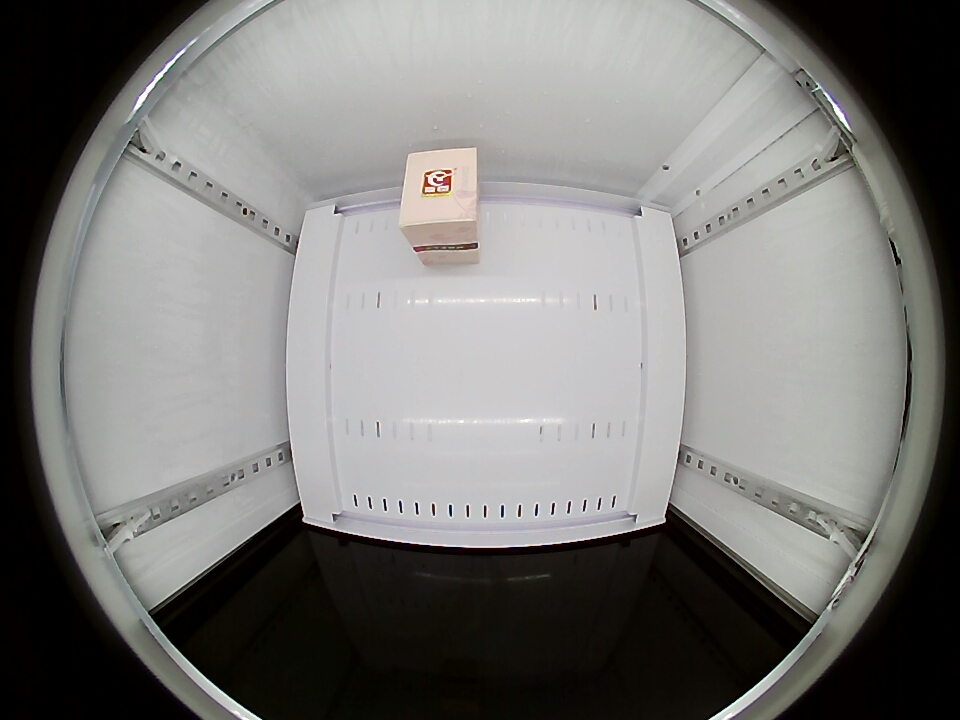rousongbing: (399, 146, 480, 253)
